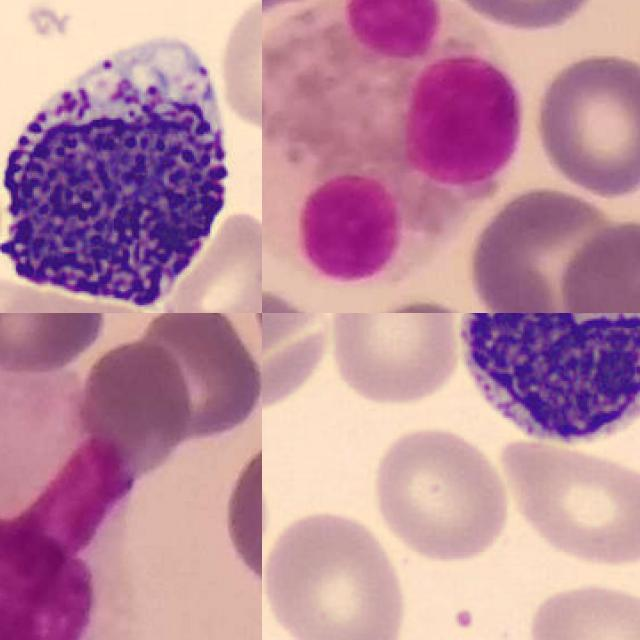Basophil: (0, 21, 244, 313)
Eosinophil: (262, 0, 526, 287)
Monocyte: (0, 386, 138, 640), (444, 313, 640, 453)
RBC: (367, 422, 511, 566), (262, 504, 412, 640), (498, 437, 640, 569), (324, 313, 468, 410), (163, 208, 262, 313), (521, 576, 640, 640), (262, 313, 334, 414), (213, 0, 262, 134), (379, 636, 546, 640)
